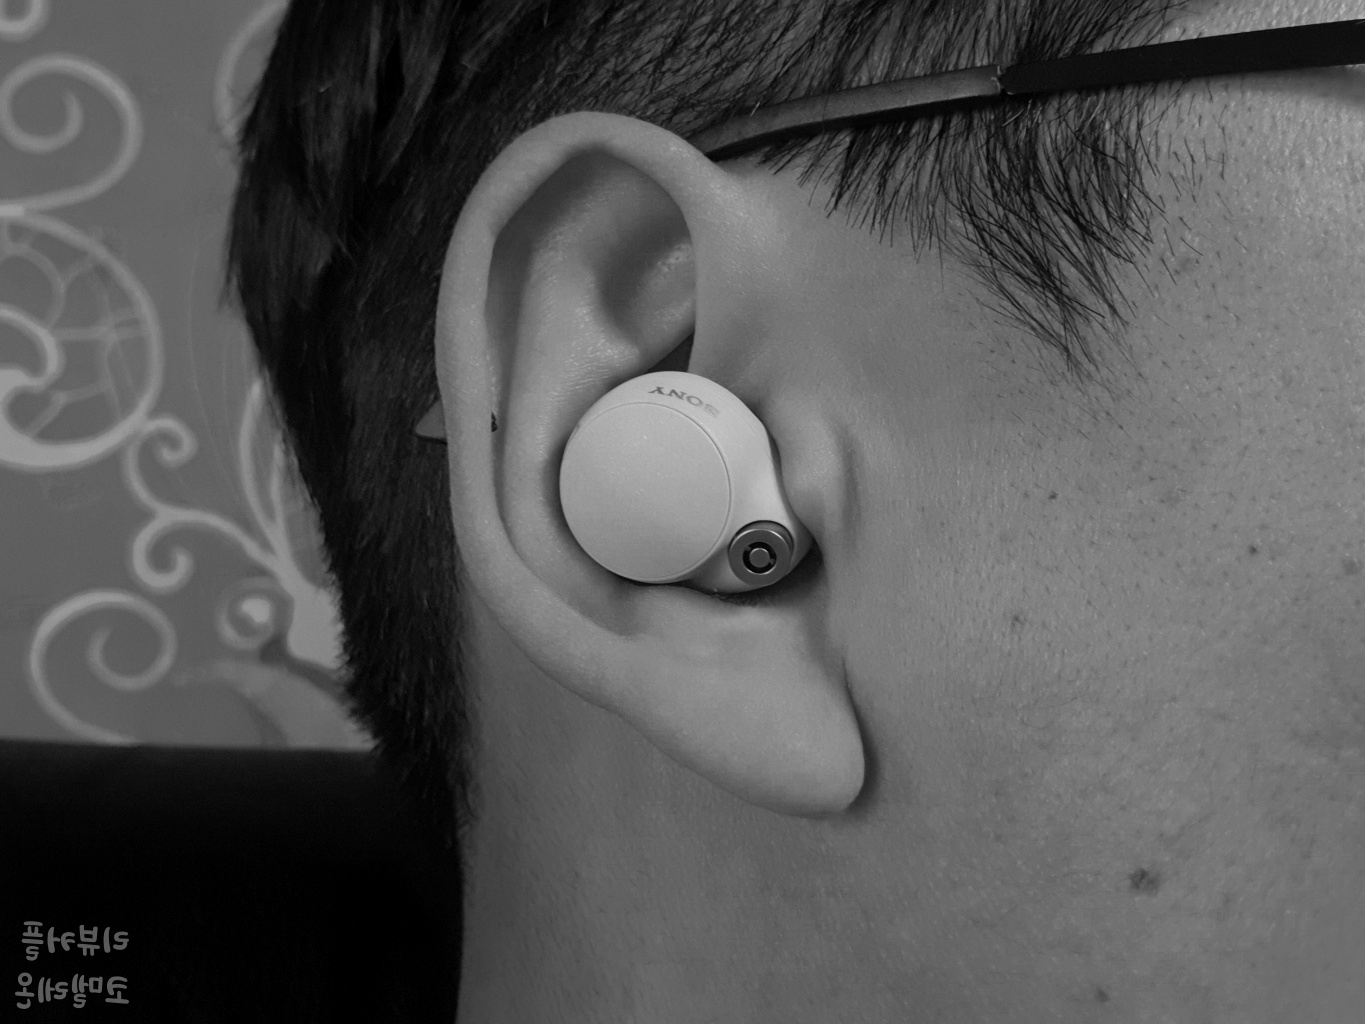earphone: (433, 111, 865, 816)
